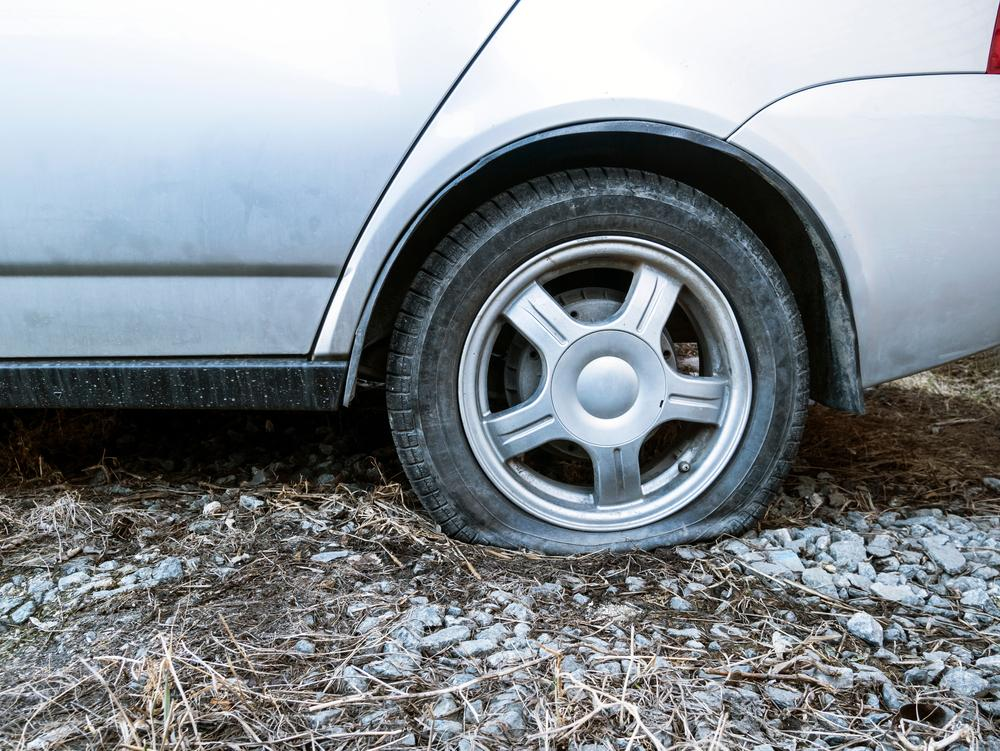tire flat: (387, 165, 811, 558)
